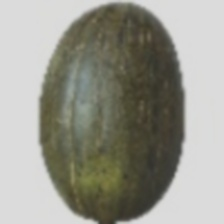honeydew: (39, 41, 183, 199)
